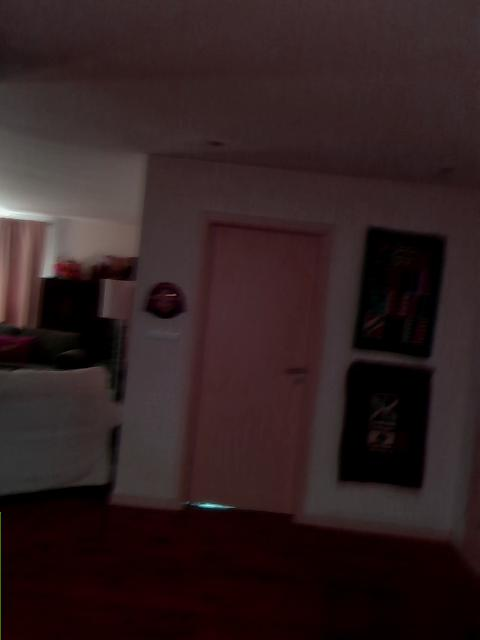closed_door: (181, 221, 326, 516)
